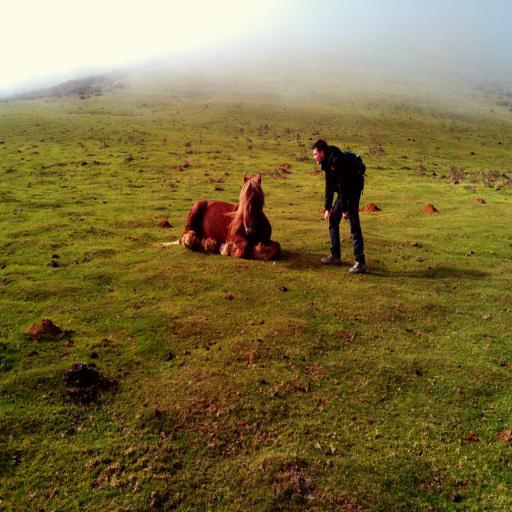Horse: (154, 173, 283, 260)
